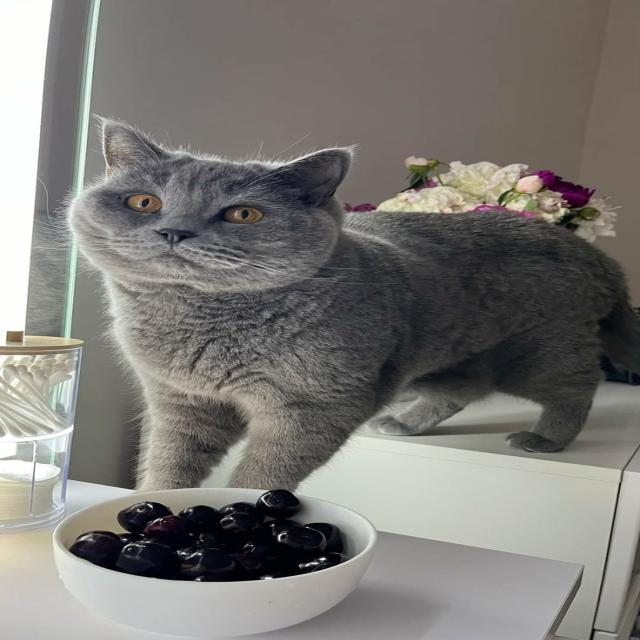british shorthair: (70, 119, 639, 491)
